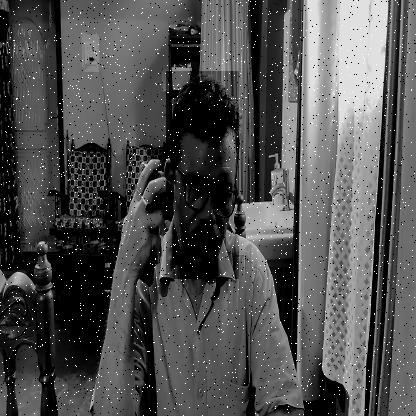Normal: (166, 71, 239, 279)
